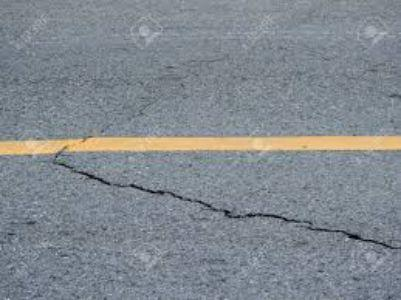crack: (43, 154, 401, 249)
